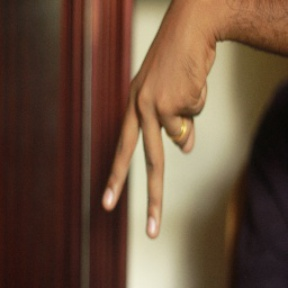Y: (97, 56, 217, 242)
